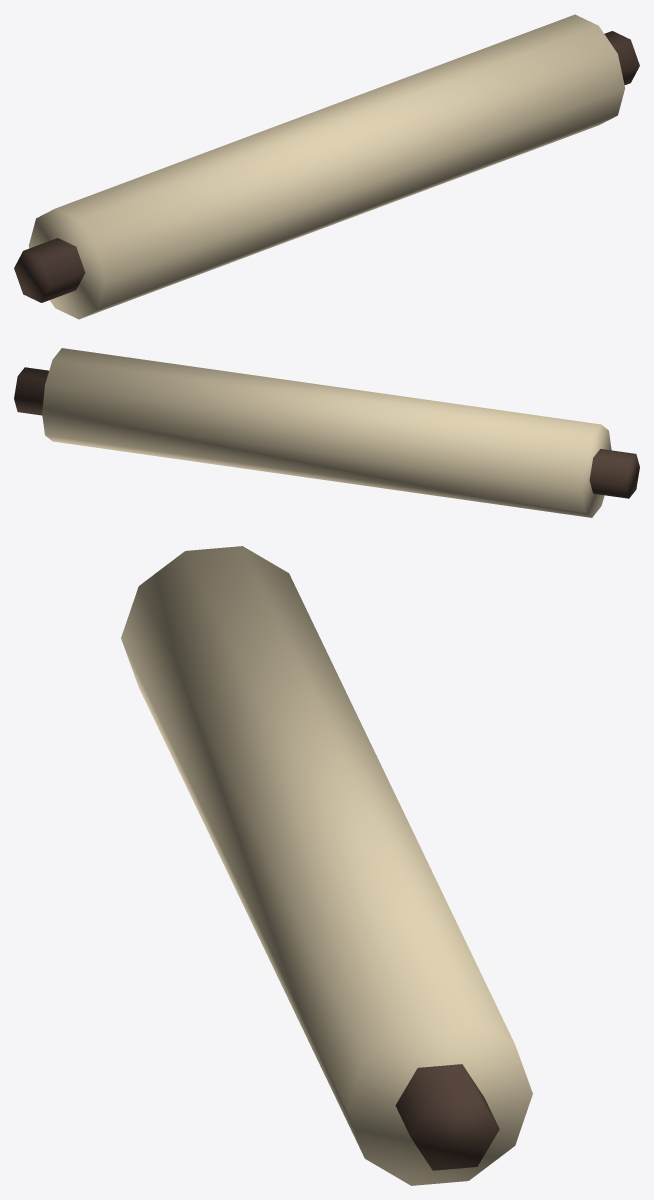
The model's file is scroll_single_roll.glb.
3 renders of one model, top to bottom at view 1: azimuth 30°, elevation 25°; view 2: azimuth 150°, elevation 25°; view 3: azimuth 270°, elevation 25°, orthographic. The views are drawn at different scales.
Visible parts, largest first — view 1: GD_scroll_single_roll__m0, GD_scroll_single_roll__m1; view 2: GD_scroll_single_roll__m0, GD_scroll_single_roll__m1; view 3: GD_scroll_single_roll__m0, GD_scroll_single_roll__m1.
Boxes of the visible parts, x1,y1,x2,y2 form: GD_scroll_single_roll__m0: (28, 14, 625, 319); GD_scroll_single_roll__m1: (14, 31, 639, 302); GD_scroll_single_roll__m0: (42, 348, 611, 517); GD_scroll_single_roll__m1: (14, 367, 639, 498); GD_scroll_single_roll__m0: (121, 546, 532, 1185); GD_scroll_single_roll__m1: (395, 1064, 499, 1170).
Size of the model in its own units: 0.338 by 0.0476 by 0.1086.
